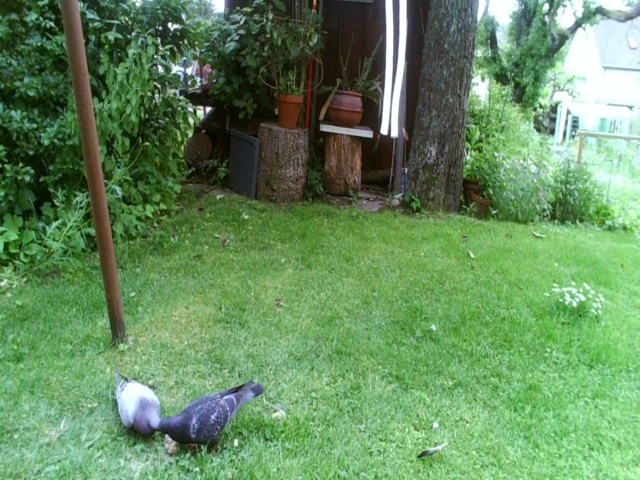Pigeon: (159, 384, 260, 457), (109, 364, 160, 438)
